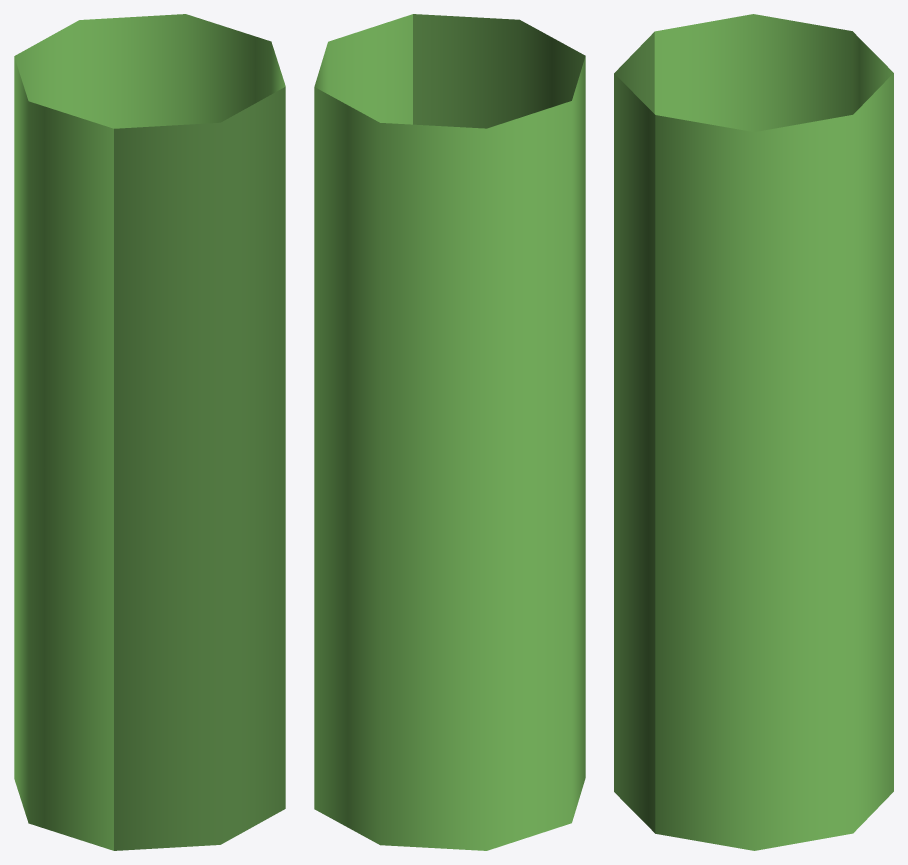
3 views of the same model, side by side, from view 1: azimuth 30°, elevation 25°; view 2: azimuth 150°, elevation 25°; view 3: azimuth 270°, elevation 25° (orthographic).
Visible parts, largest first — view 1: Tentacle.004; view 2: Tentacle.004; view 3: Tentacle.004.
Part boxes in pixels (x1,y1,x2,y2): Tentacle.004: (14,14,285,850); Tentacle.004: (314,14,585,850); Tentacle.004: (614,14,893,850).
Bounding box in the file's own units: 0.5519 × 1.57 × 0.5519.
